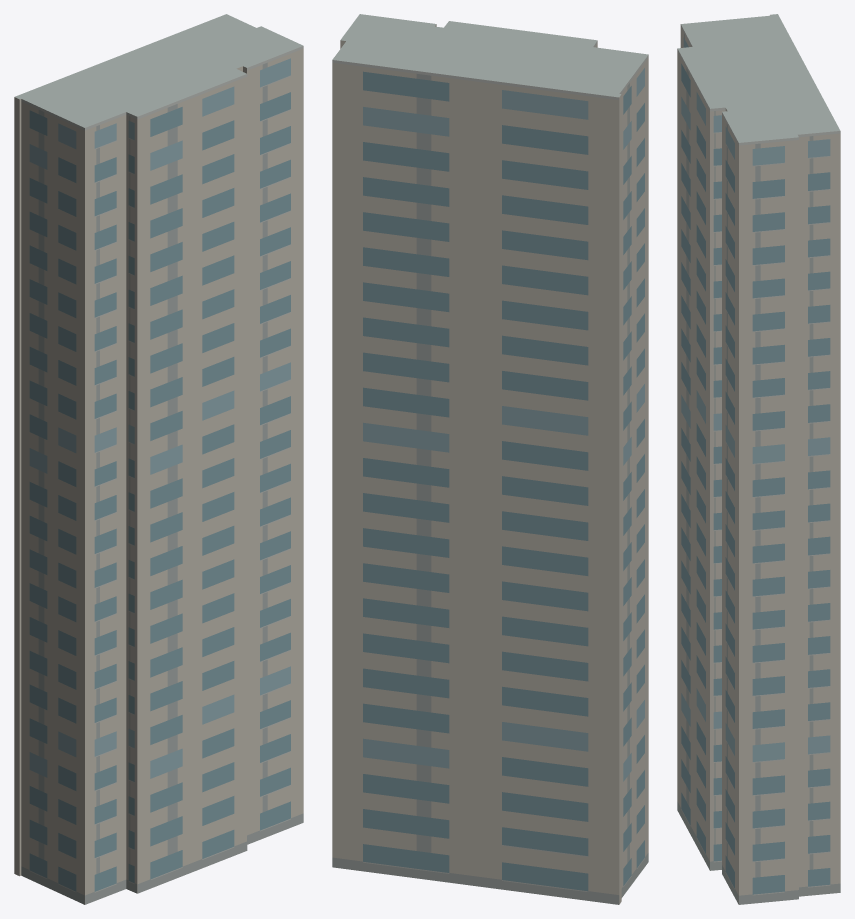
The model's file is survey-upis-32859042.glb.
3 views of the same model, side by side, from view 1: azimuth 30°, elevation 25°; view 2: azimuth 150°, elevation 25°; view 3: azimuth 270°, elevation 25° (orthographic). The views are drawn at different scales.
Visible parts, largest first — view 1: survey-upis-32859042.tmp; view 2: survey-upis-32859042.tmp; view 3: survey-upis-32859042.tmp.
Part boxes in pixels (x1,y1,x2,y2): survey-upis-32859042.tmp: (14,14,303,904); survey-upis-32859042.tmp: (332,14,648,904); survey-upis-32859042.tmp: (677,14,840,904).
Bounding box in the file's own units: 25.47 × 70.15 × 13.62.
